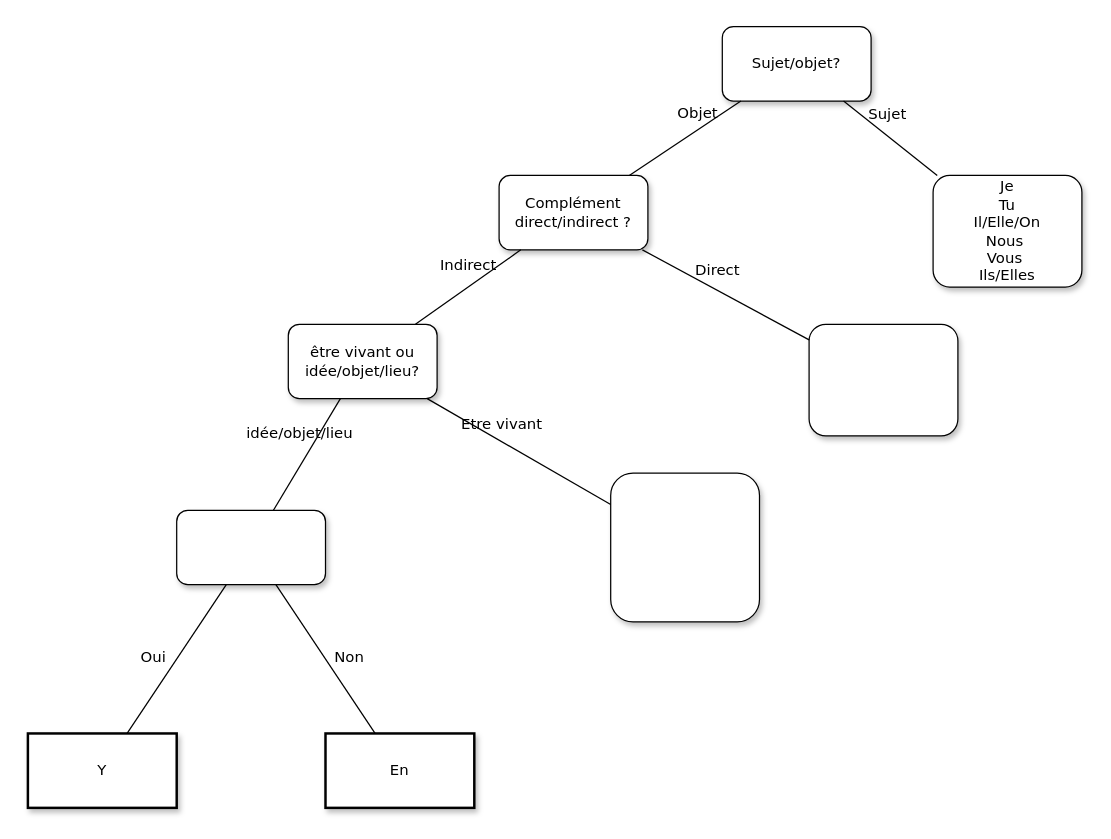
Image size: 1111x839. Some labels were removed from this diagram. The centre of each missing label's shape, as x and y in pixels:
Introduit par "de"?: (x=251, y=548)
Me Te Le/l' Nous Vous Les: (x=884, y=381)
Me/m' Te/t' Lui Nous Vous Leur: (x=685, y=549)
